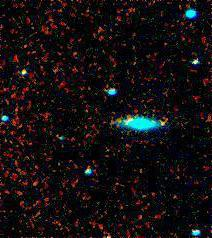star: (148, 110, 178, 140)
